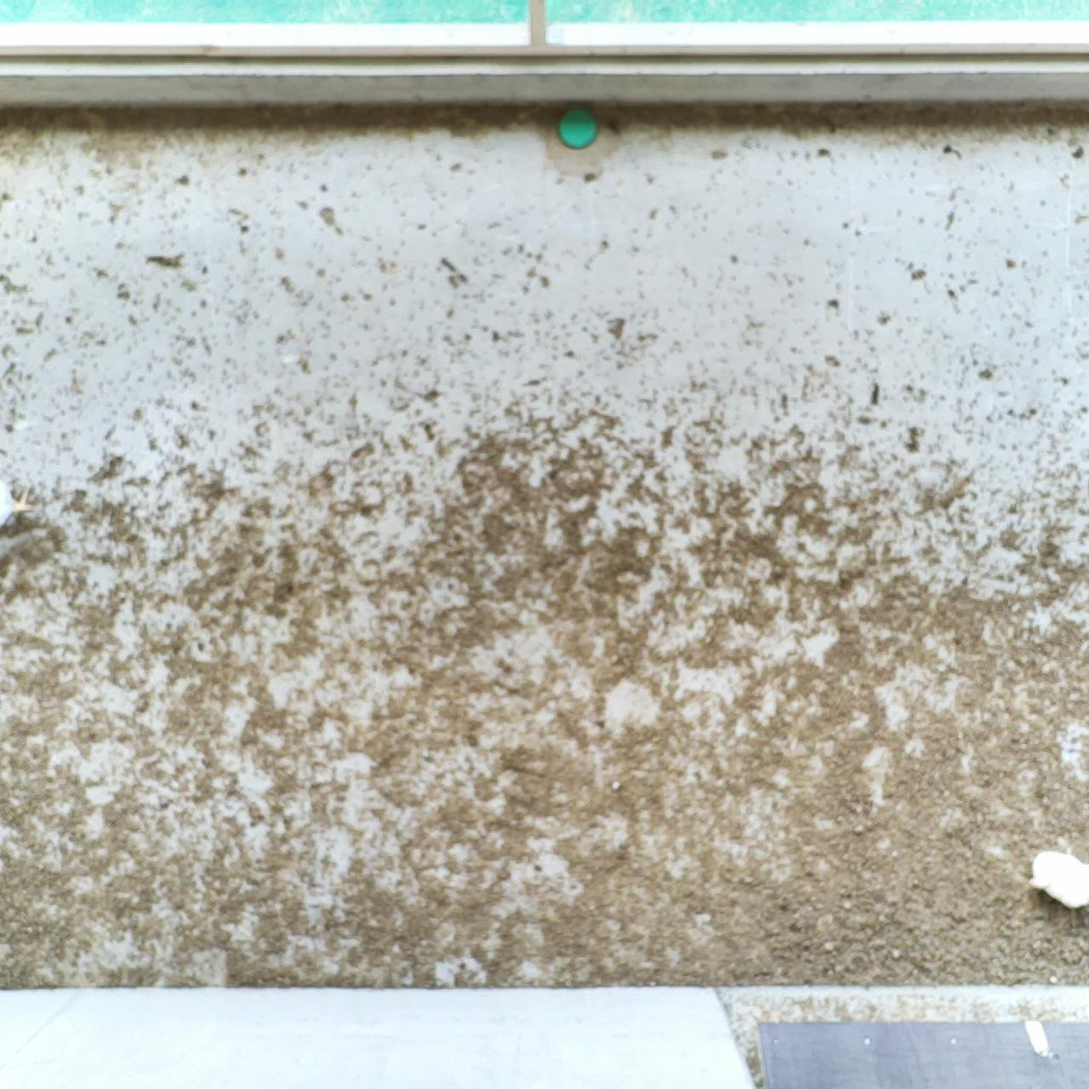chicken: (1023, 847, 1089, 914)
